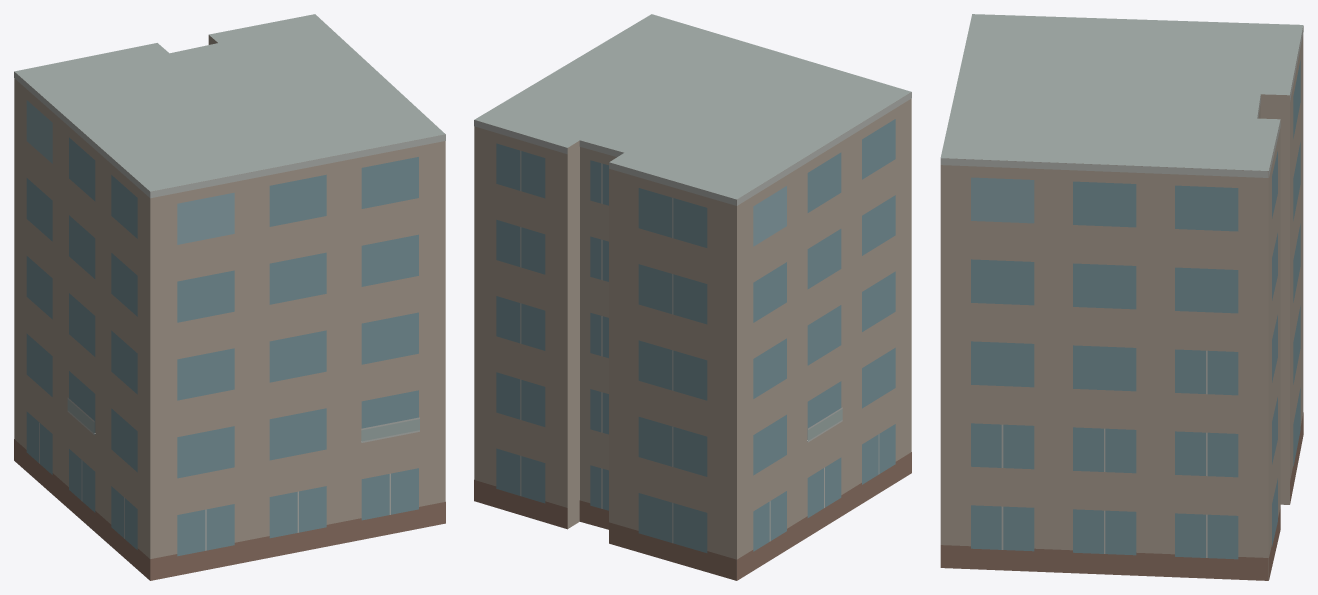
The model's file is survey-upis-32868999.glb.
The picture shows the model from 3 angles, left to right: view 1: azimuth 30°, elevation 25°; view 2: azimuth 150°, elevation 25°; view 3: azimuth 270°, elevation 25°; orthographic projection. The views are drawn at different scales.
Visible parts, largest first — view 1: survey-upis-32868999.tmp; view 2: survey-upis-32868999.tmp; view 3: survey-upis-32868999.tmp.
Boxes of the visible parts, bbox=[...] form: survey-upis-32868999.tmp: bbox=[14, 14, 445, 580]; survey-upis-32868999.tmp: bbox=[474, 14, 911, 580]; survey-upis-32868999.tmp: bbox=[940, 14, 1303, 580].
Size of the model in its own units: 11.85 by 14.4 by 11.57.
